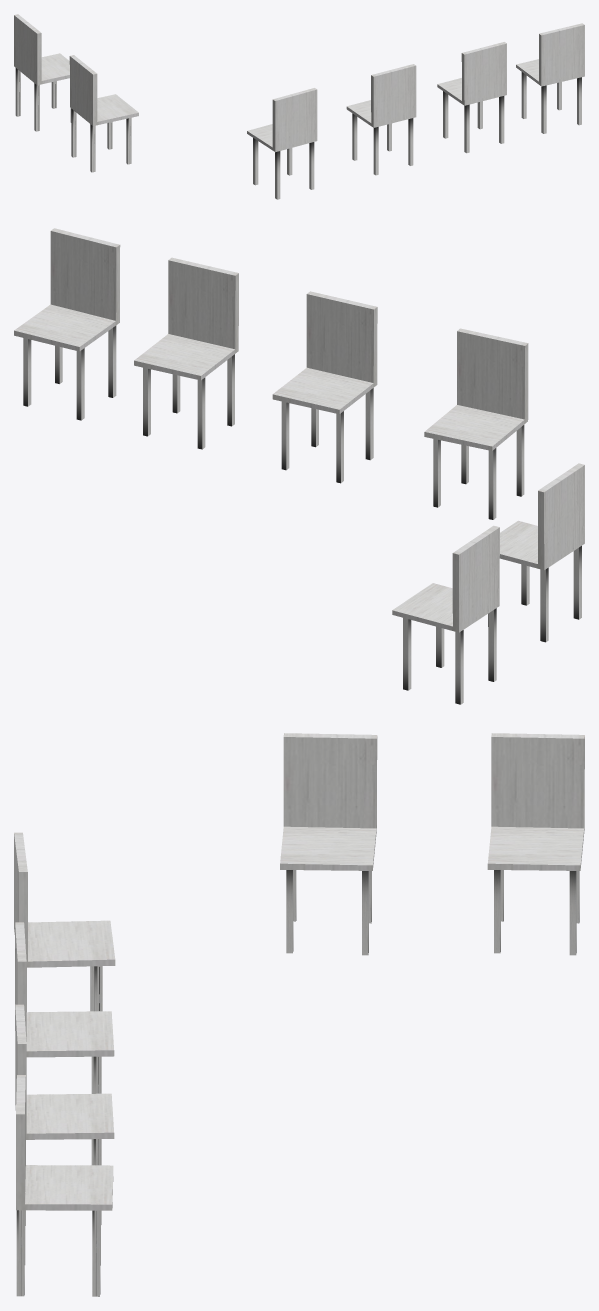
The model's file is isu.obj.
3 views of the same model, one above another, from view 1: azimuth 30°, elevation 25°; view 2: azimuth 150°, elevation 25°; view 3: azimuth 270°, elevation 25° (orthographic). The views are drawn at different scales.
Size of the model in its own units: 3.55 by 0.8032 by 2.24.
